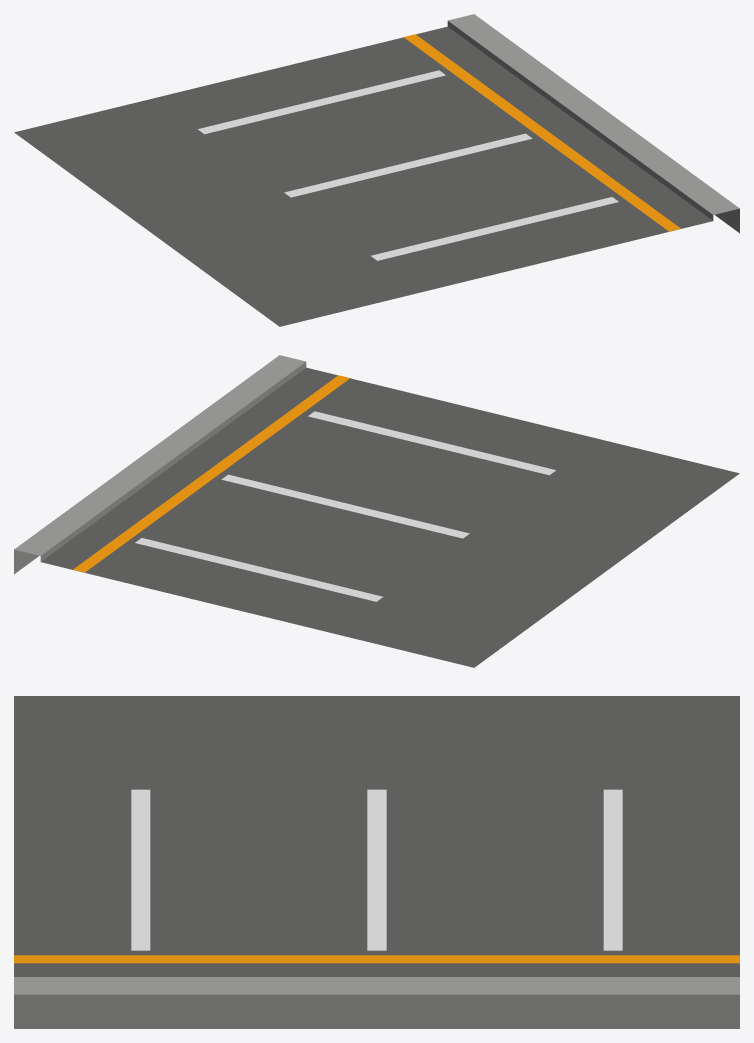
The model's file is ParkingRoad_B_3.fbx.
The picture shows the model from 3 angles, top to bottom: view 1: azimuth 30°, elevation 25°; view 2: azimuth 150°, elevation 25°; view 3: azimuth 270°, elevation 25°; orthographic projection. The views are drawn at different scales.
Visible parts, largest first — view 1: ParkingRoad_B_3; view 2: ParkingRoad_B_3; view 3: ParkingRoad_B_3.
Boxes of the visible parts, x1,y1,x2,y2 form: ParkingRoad_B_3: [14, 14, 739, 326]; ParkingRoad_B_3: [14, 355, 739, 667]; ParkingRoad_B_3: [14, 696, 739, 1028].
Size of the model in its own units: 800 by 41.48 by 800.
